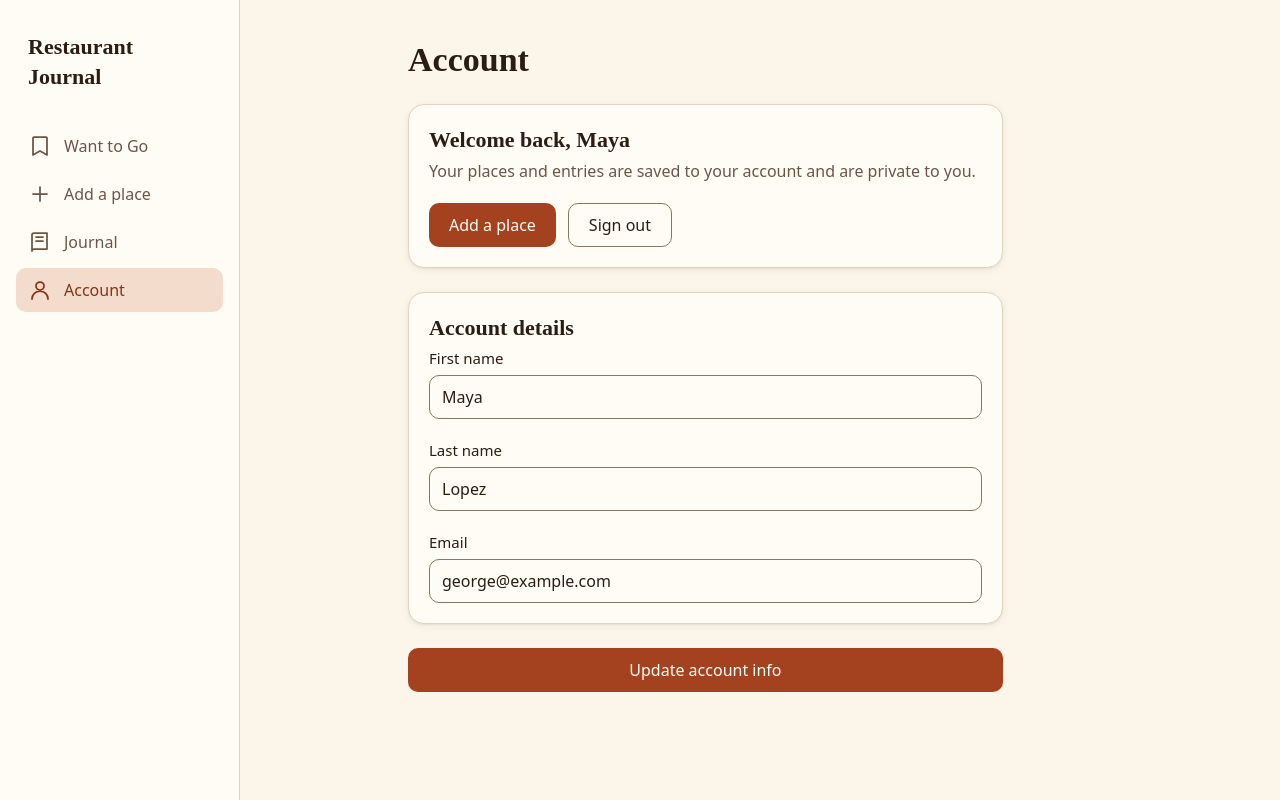
Test: signed in › updates the name and shows the new name in the welcome
This screenshot has width=1280, height=800.
Replace the text in the field labelled "First name" with "  Aly ": (705, 397) [429, 375, 982, 419]
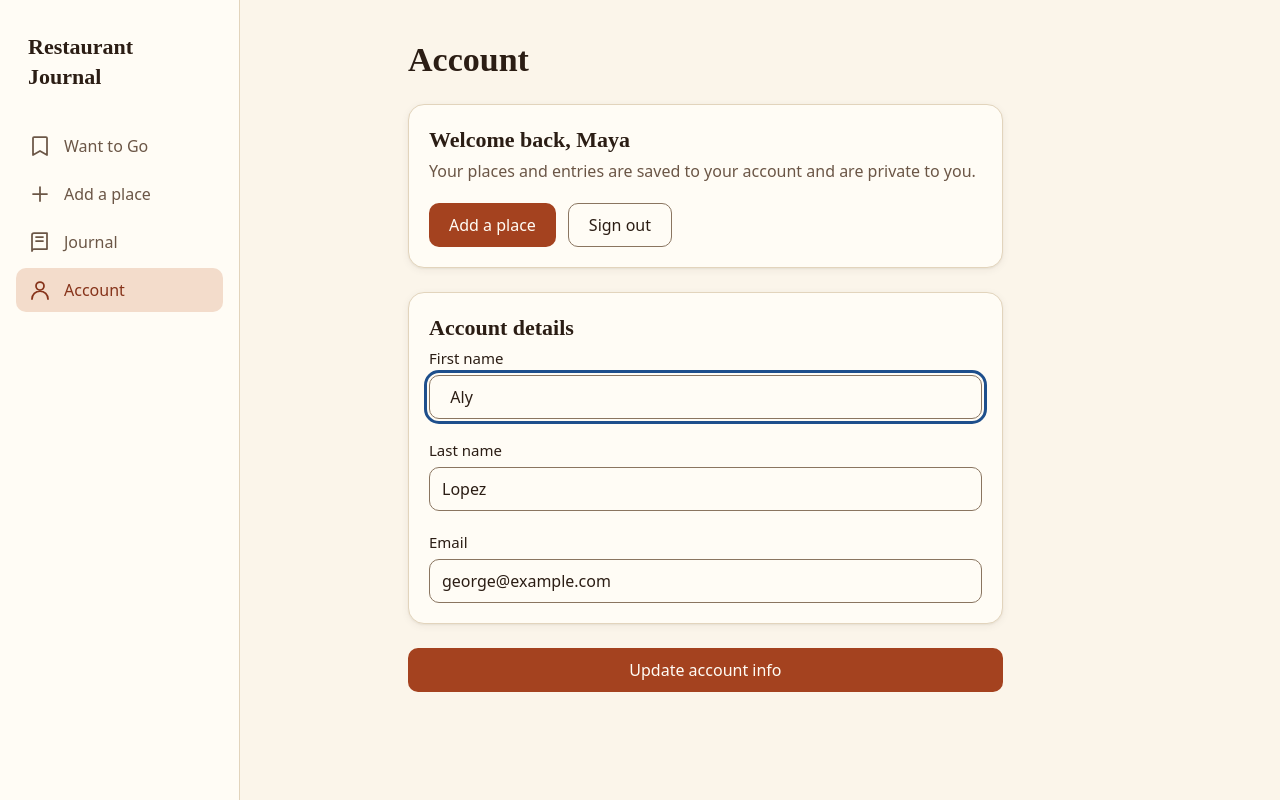
Click the button "Update account info": (705, 670) [408, 648, 1003, 692]
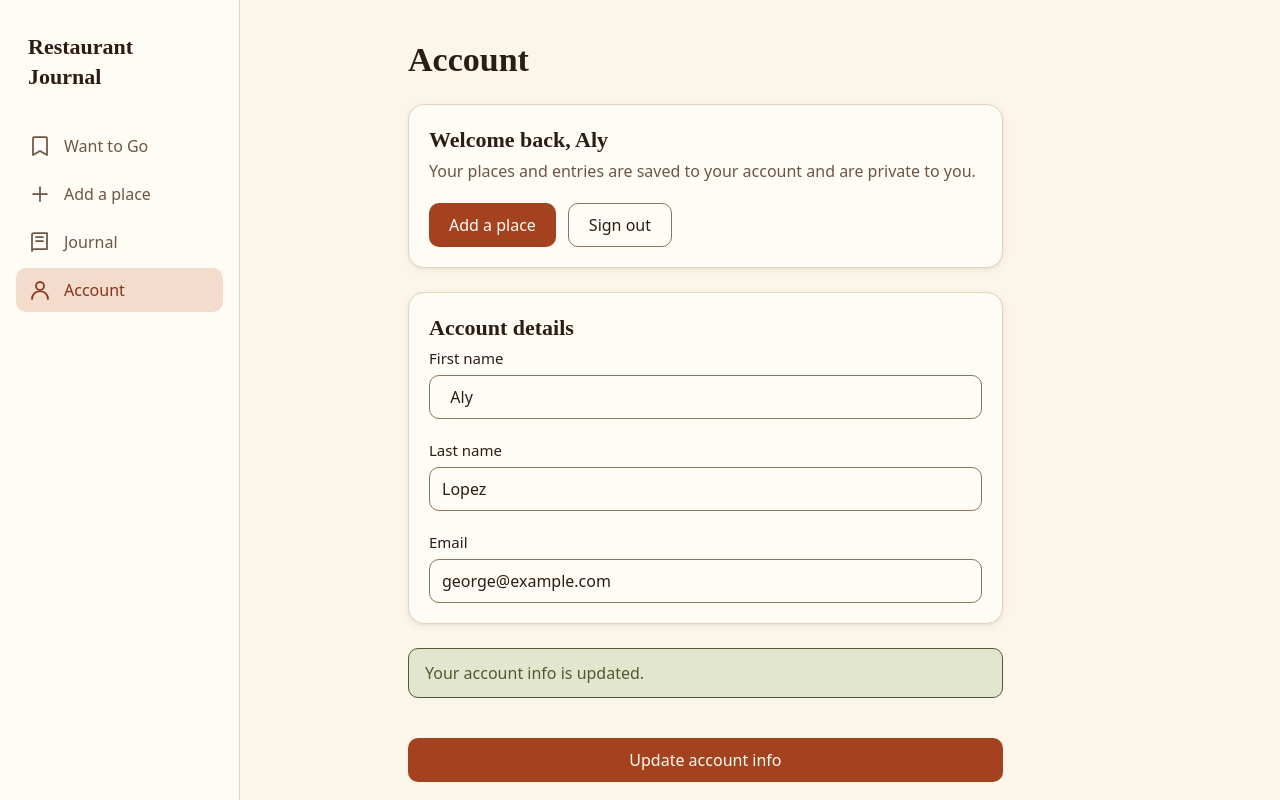
Expected: the button "Update account info" is enabled, [408, 738, 1003, 782]
Now the text "Your account info is updated." is shown, box [408, 648, 1003, 698]
Now the heading "Welcome back, Aly" is shown, box [429, 127, 608, 152]
